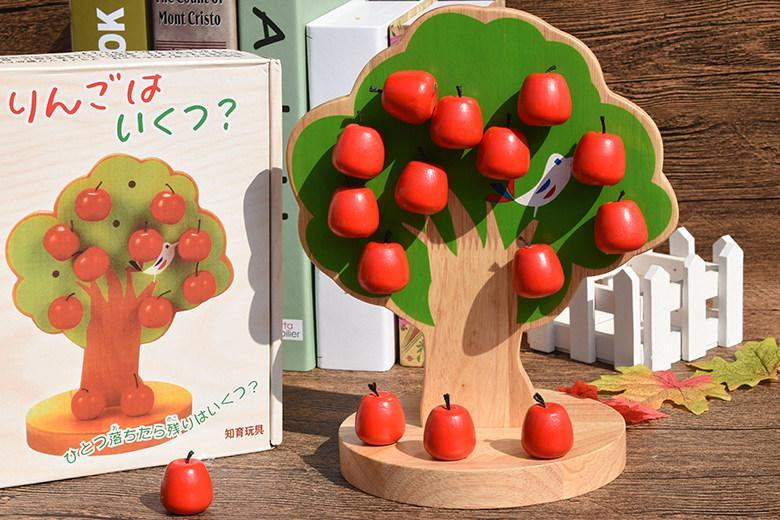apple: (519, 398, 573, 460)
